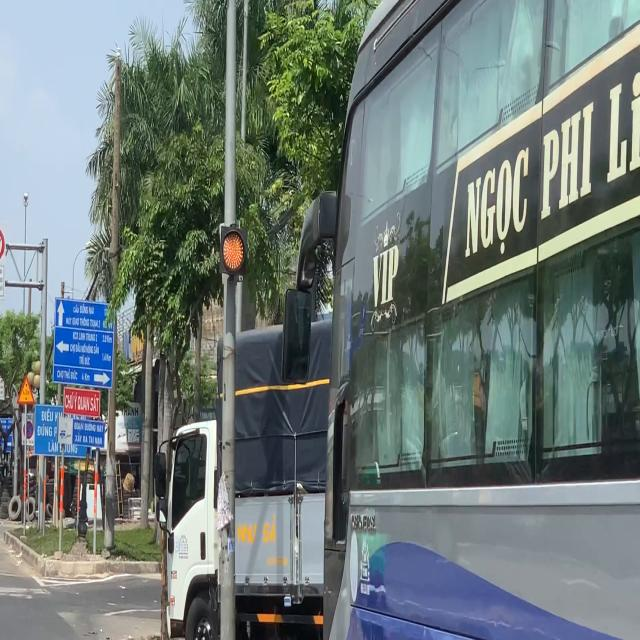Nguy hiem: (16, 374, 36, 406)
